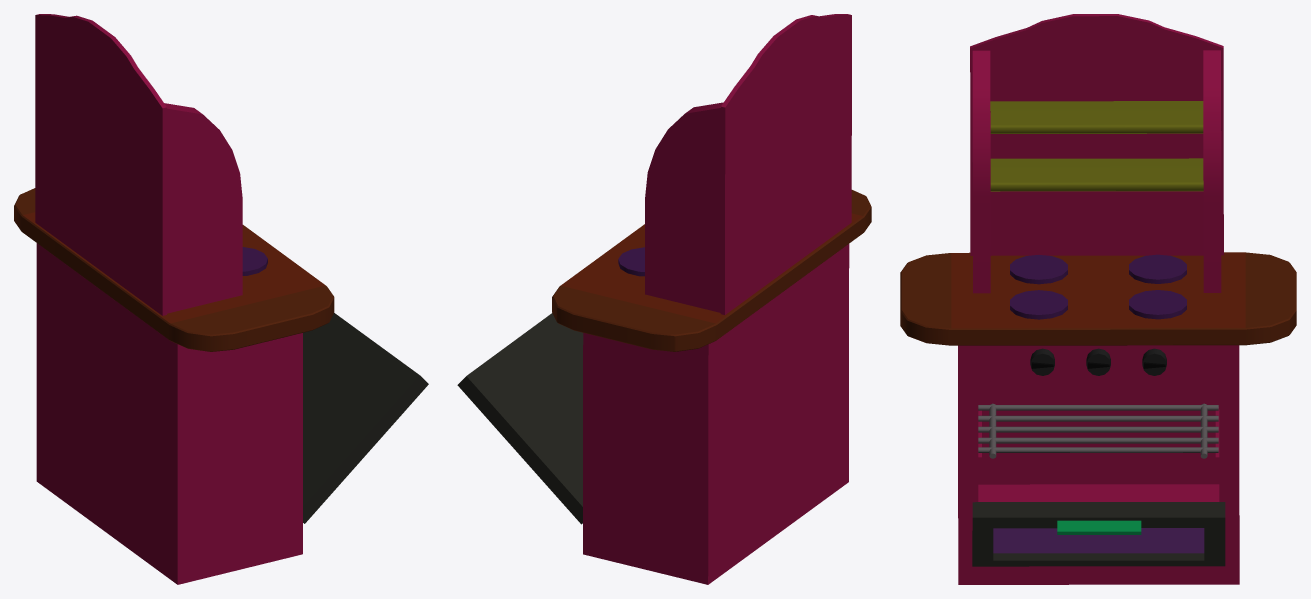
The model's file is SM_Dinette_Dinner.fbx.
3 renders of one model, left to right at view 1: azimuth 30°, elevation 25°; view 2: azimuth 150°, elevation 25°; view 3: azimuth 270°, elevation 25°, orthographic.
Parts seen in each view (by area): view 1: polySurface19, polySurface30; view 2: polySurface19, polySurface30; view 3: polySurface19, polySurface30, pCube4, pCube3, pCube2.
Boxes of the visible parts, x1,y1,x2,y2 form: polySurface19: (14,14,334,584); polySurface30: (303,313,428,523); polySurface19: (552,14,871,584); polySurface30: (457,313,583,524); polySurface19: (900,14,1296,584); polySurface30: (972,502,1225,566); pCube4: (1142,348,1166,375); pCube3: (1086,348,1110,375); pCube2: (1030,348,1054,375).
Bounding box in the file's own units: 84.06 × 151 × 107.
